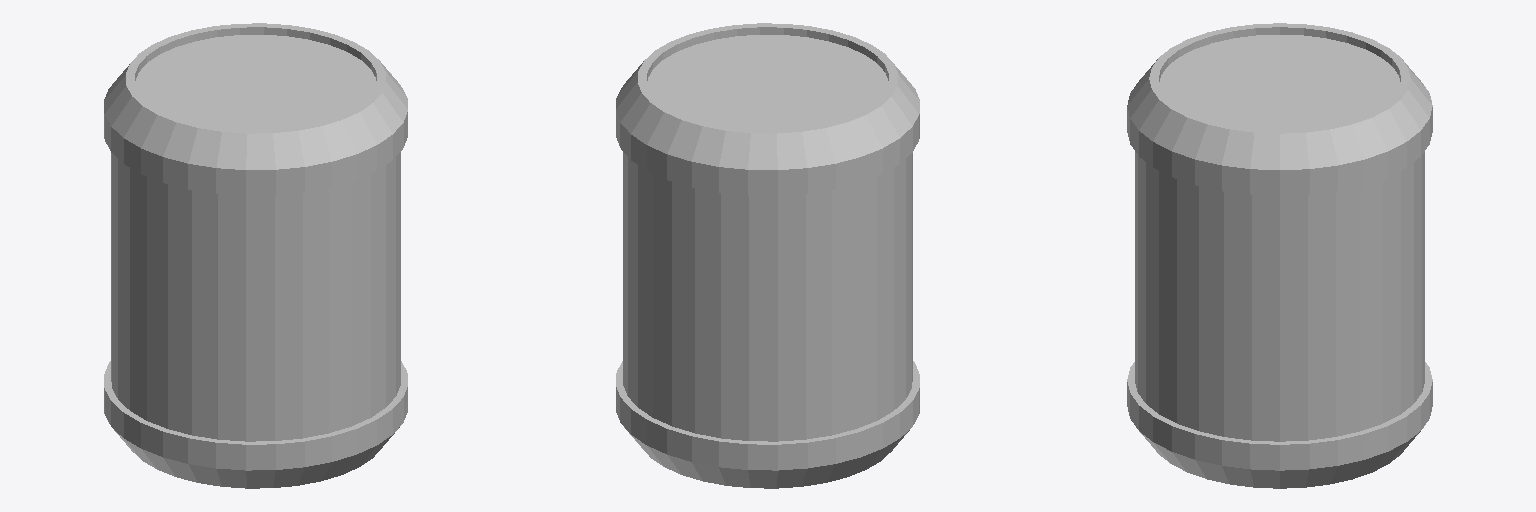
Rendered from obstacle_barrel_2.obj.
3 renders of one model, left to right at view 1: azimuth 30°, elevation 25°; view 2: azimuth 150°, elevation 25°; view 3: azimuth 270°, elevation 25°, orthographic.
Size of the model in its own units: 0.1049 by 0.1345 by 0.1049.